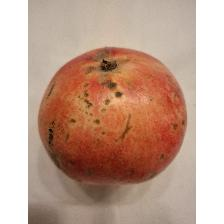Granatapfel: (34, 41, 188, 188)
